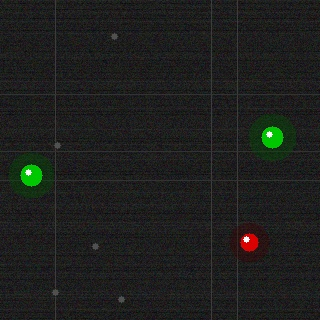green_normal: (18, 162, 44, 188), (259, 124, 285, 150)
red_fault: (238, 231, 260, 253)
